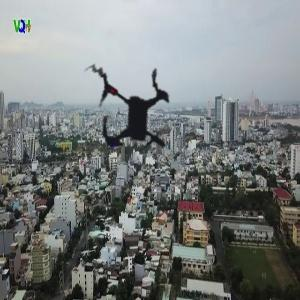drone: (46, 21, 235, 210)
